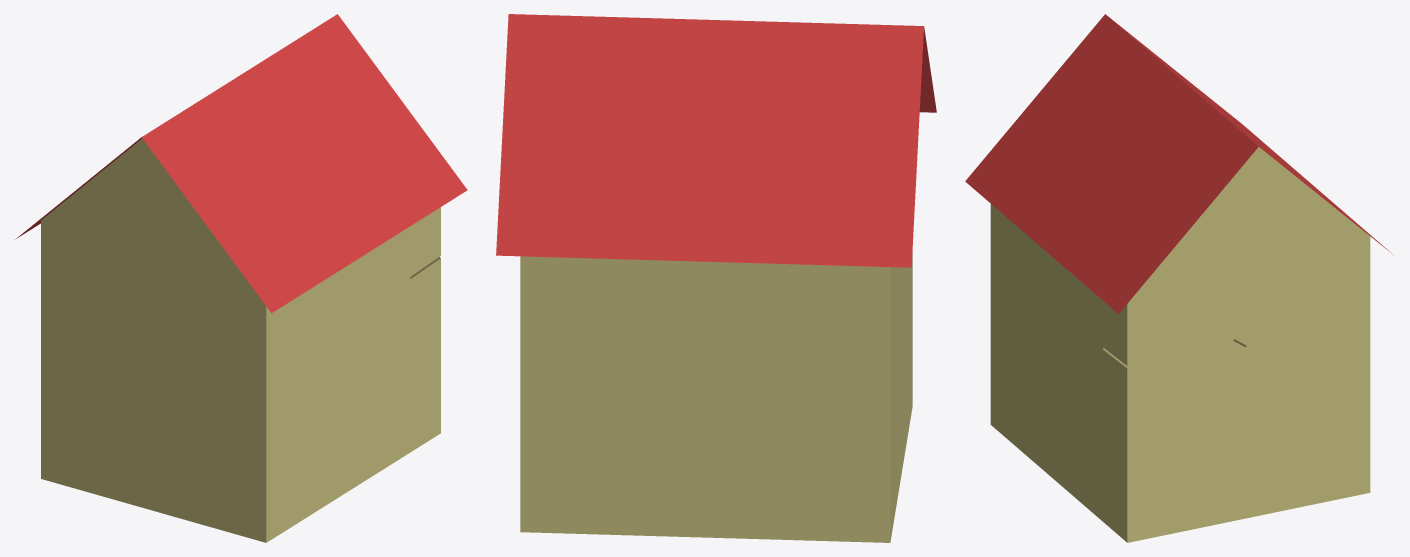
The picture shows the model from 3 angles, left to right: view 1: azimuth 30°, elevation 25°; view 2: azimuth 150°, elevation 25°; view 3: azimuth 270°, elevation 25°; orthographic projection. The views are drawn at different scales.
Bounding box in the file's own units: 17.57 × 16.84 × 16.31.
